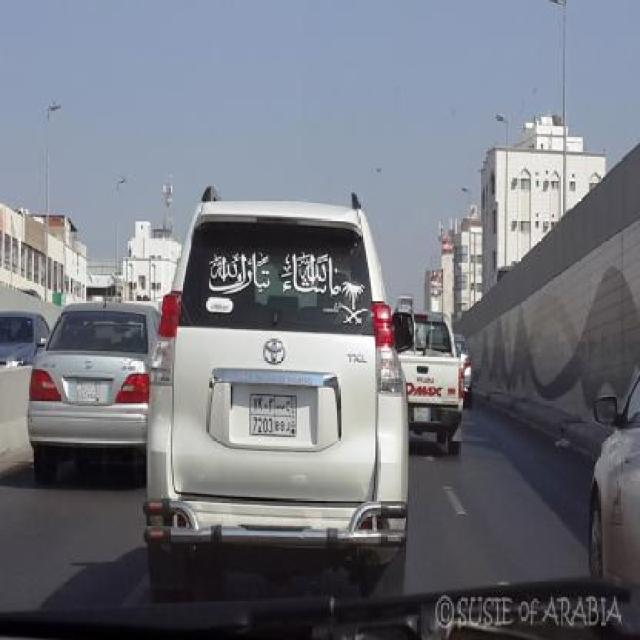license_plate: (249, 393, 297, 438)
